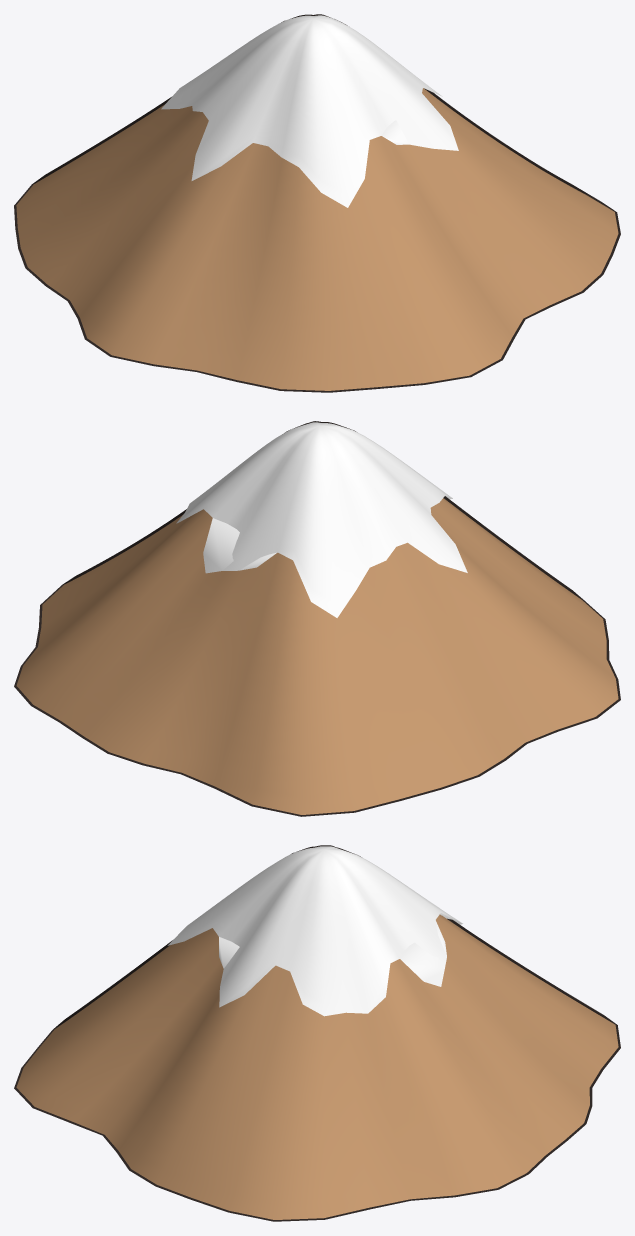
Rendered from BG_Mountain_C.fbx.
3 views of the same model, one above another, from view 1: azimuth 30°, elevation 25°; view 2: azimuth 150°, elevation 25°; view 3: azimuth 270°, elevation 25° (orthographic). The views are drawn at different scales.
Parts seen in each view (by area): view 1: BG_Mountain_C_Mountain, BG_Mountain_C_Snow, BG_Mountain_C_Outline; view 2: BG_Mountain_C_Mountain, BG_Mountain_C_Snow, BG_Mountain_C_Outline; view 3: BG_Mountain_C_Mountain, BG_Mountain_C_Snow, BG_Mountain_C_Outline.
Boxes of the visible parts, x1,y1,x2,y2 form: BG_Mountain_C_Mountain: (16, 88, 618, 390); BG_Mountain_C_Snow: (161, 15, 458, 207); BG_Mountain_C_Outline: (14, 14, 620, 392); BG_Mountain_C_Mountain: (16, 498, 618, 814); BG_Mountain_C_Snow: (176, 422, 467, 617); BG_Mountain_C_Outline: (14, 421, 620, 816); BG_Mountain_C_Mountain: (16, 914, 618, 1219); BG_Mountain_C_Snow: (167, 846, 462, 1016); BG_Mountain_C_Outline: (14, 845, 620, 1221).
Bounding box in the file's own units: 71.21 × 31.26 × 71.99.
